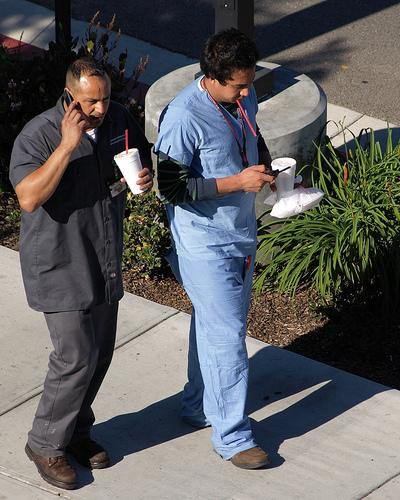person: (155, 29, 278, 471)
